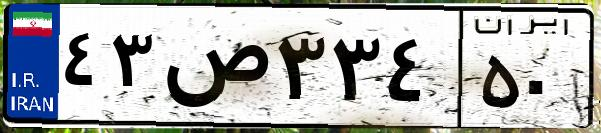0: (525, 38, 570, 115)
3: (270, 28, 330, 110), (330, 28, 385, 110), (110, 28, 158, 98)
4: (385, 28, 445, 110), (57, 26, 110, 100)
5: (475, 38, 525, 113)
ص: (158, 20, 270, 120)
